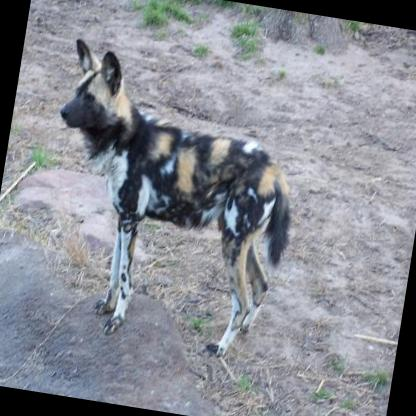African_hunting_dog: (19, 30, 312, 366)
